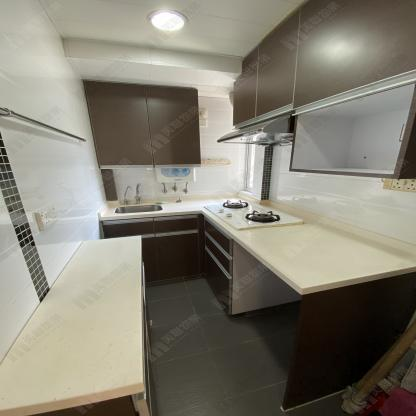Cupboard: (237, 0, 416, 125), (107, 211, 234, 310), (87, 79, 199, 169)
Exhaust Hood: (213, 115, 295, 147)
Faucet: (126, 181, 145, 203)
Sink: (115, 203, 161, 213)
Stove: (205, 199, 309, 230)
